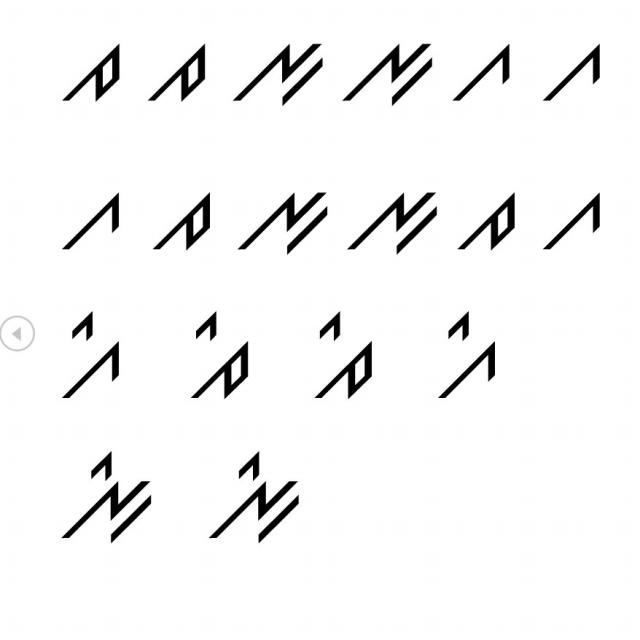ga: (537, 39, 615, 111), (54, 184, 127, 258), (540, 189, 617, 254), (451, 37, 516, 105)
gi: (431, 309, 506, 405), (56, 306, 124, 405)
nga: (344, 182, 446, 260), (339, 34, 436, 110), (234, 182, 333, 256), (229, 40, 326, 107)
ngi: (196, 444, 306, 546), (59, 450, 156, 552)
ta: (145, 181, 220, 256), (49, 44, 129, 107), (148, 40, 216, 109), (457, 186, 522, 256)
ti: (178, 299, 256, 402), (307, 310, 380, 413)
